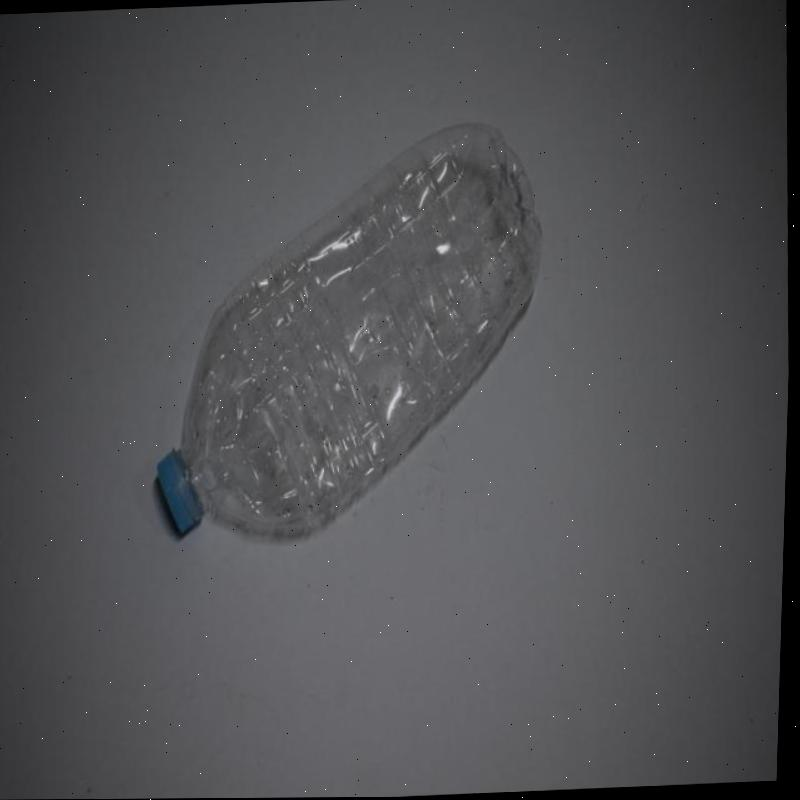botella: (147, 120, 557, 547)
